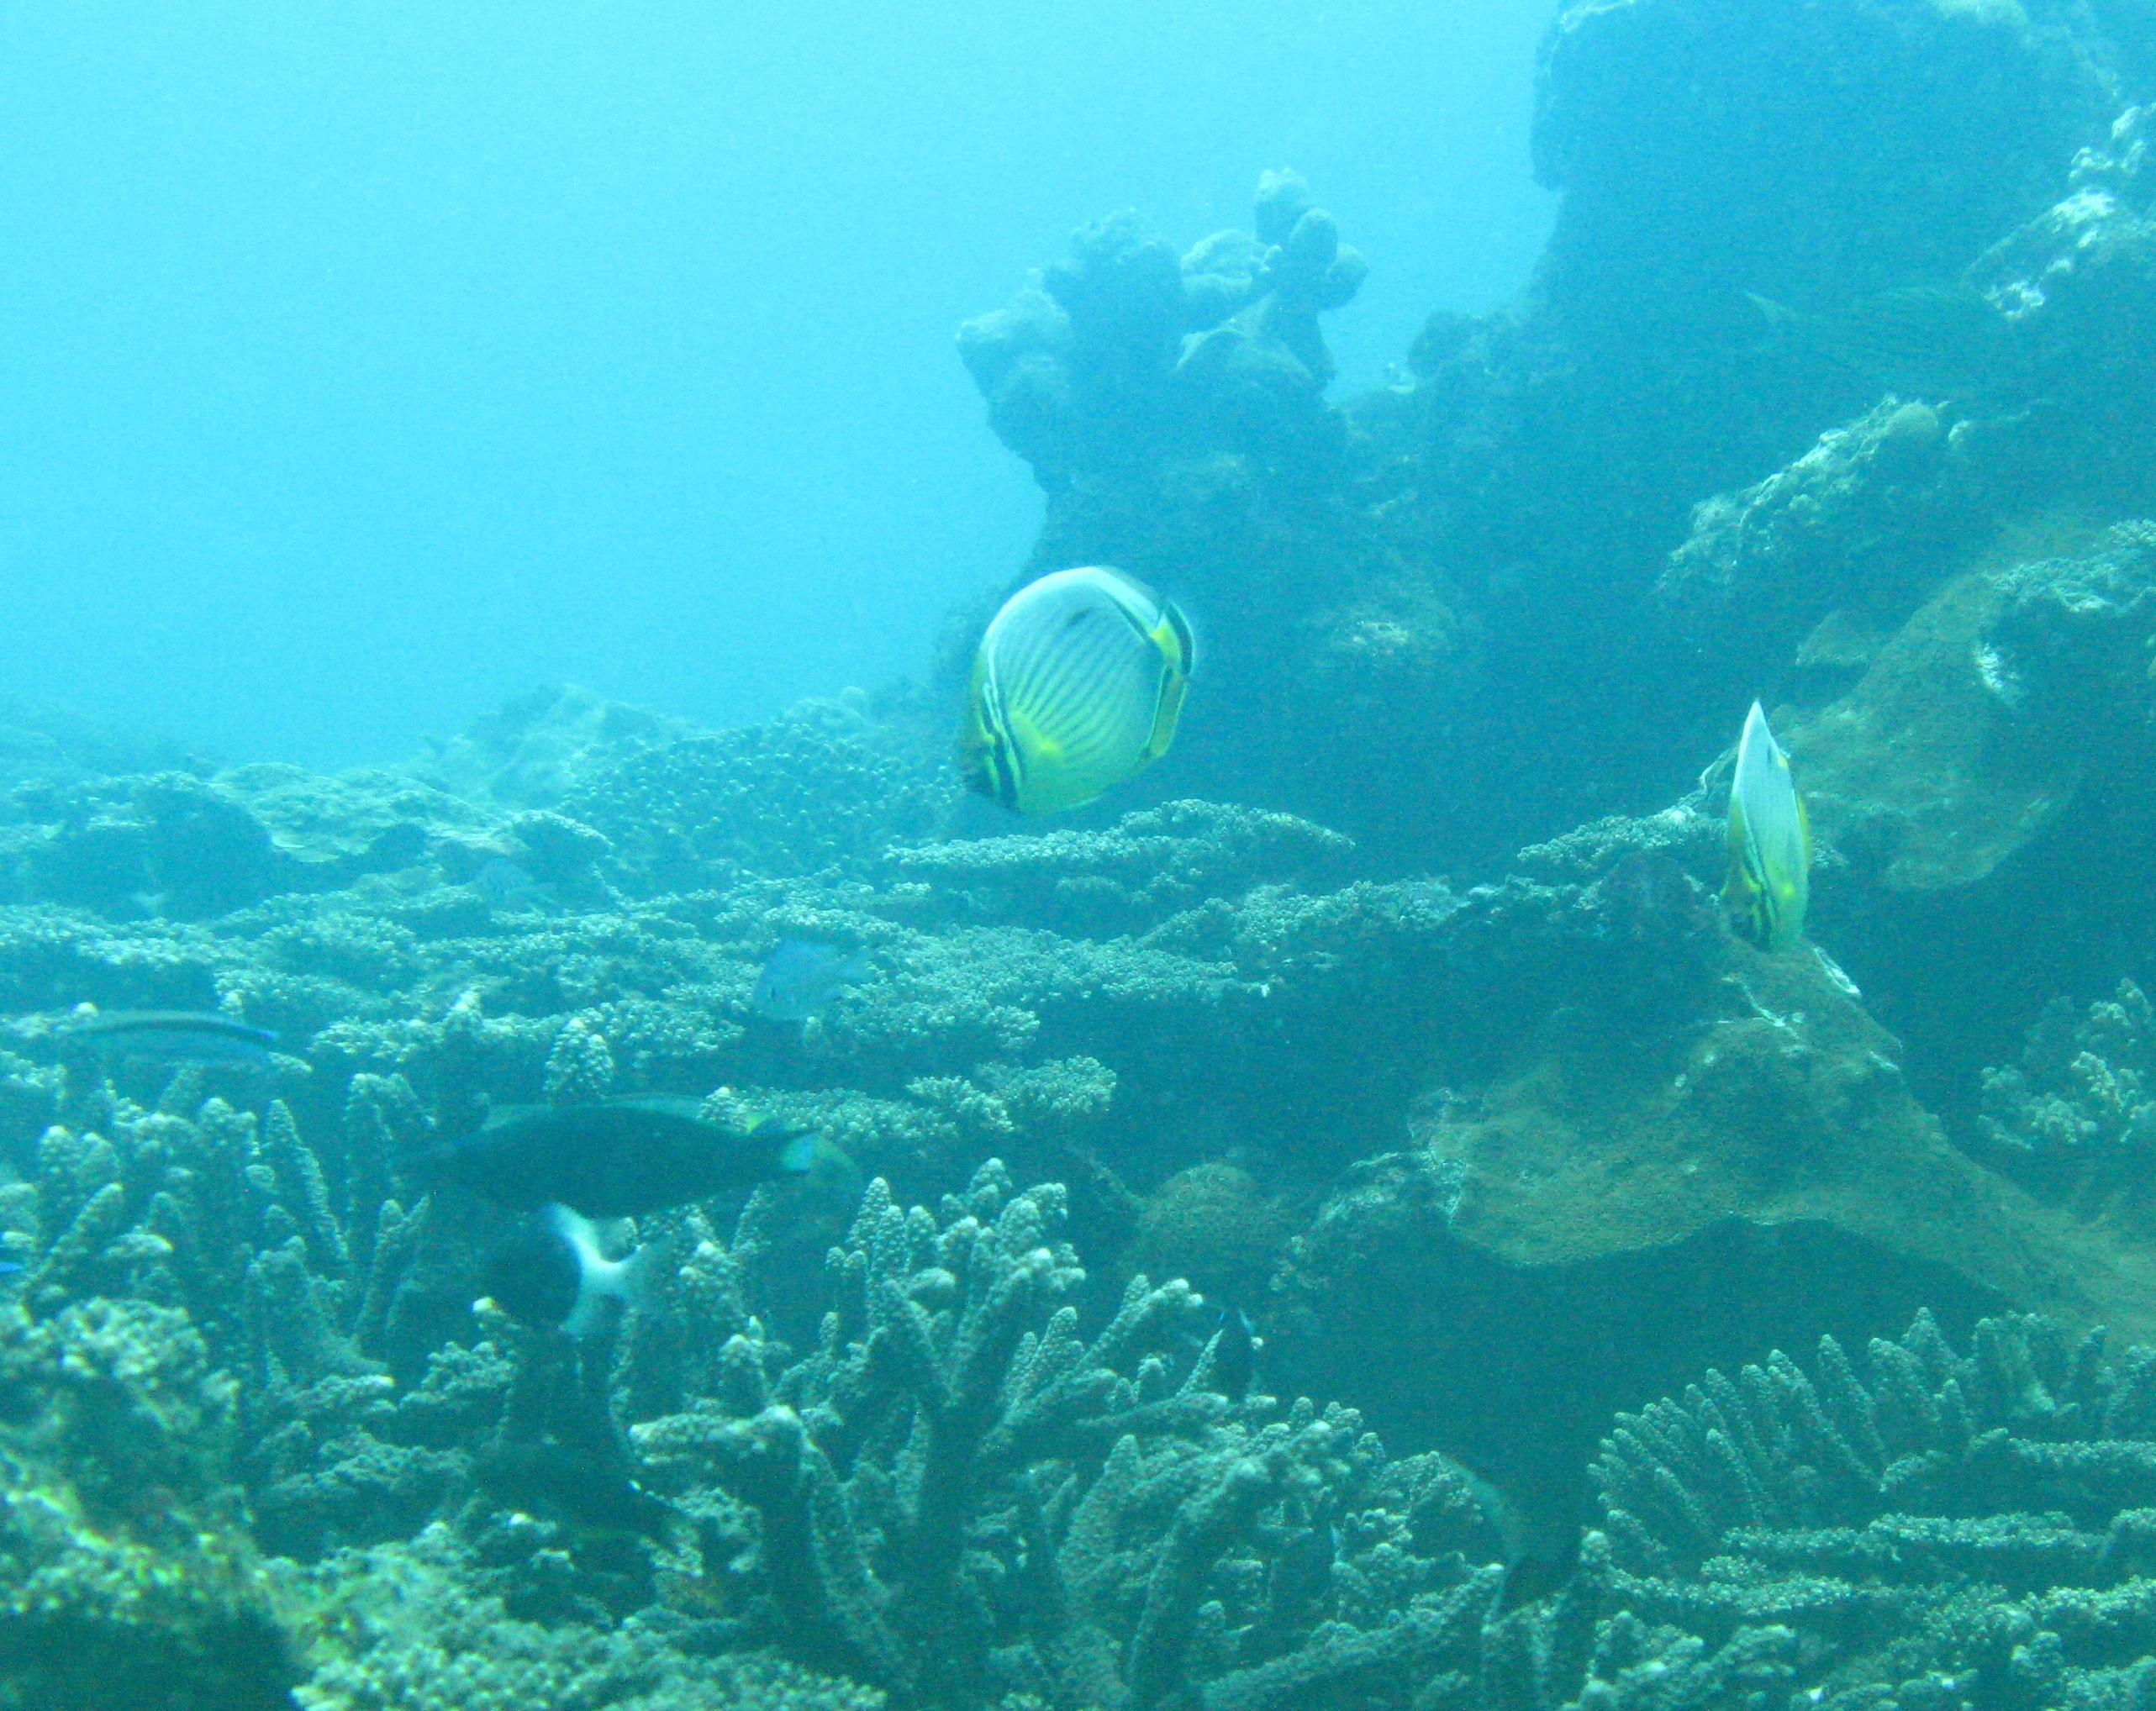Chaetodon trifasciatus: (929, 556, 1230, 835), (1682, 695, 1851, 988)
